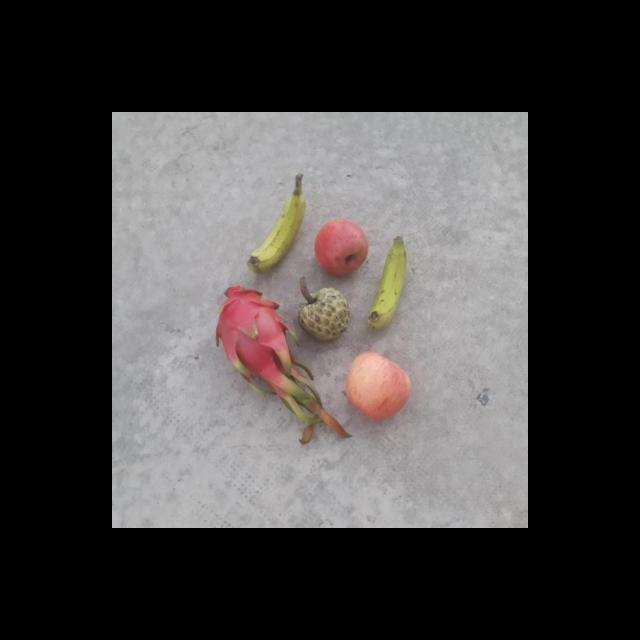Sakya fruit: (298, 287, 350, 342)
apple: (345, 351, 409, 422), (316, 212, 366, 282)
banana: (236, 190, 311, 271), (366, 233, 410, 337)
pitaya: (216, 285, 289, 375)
